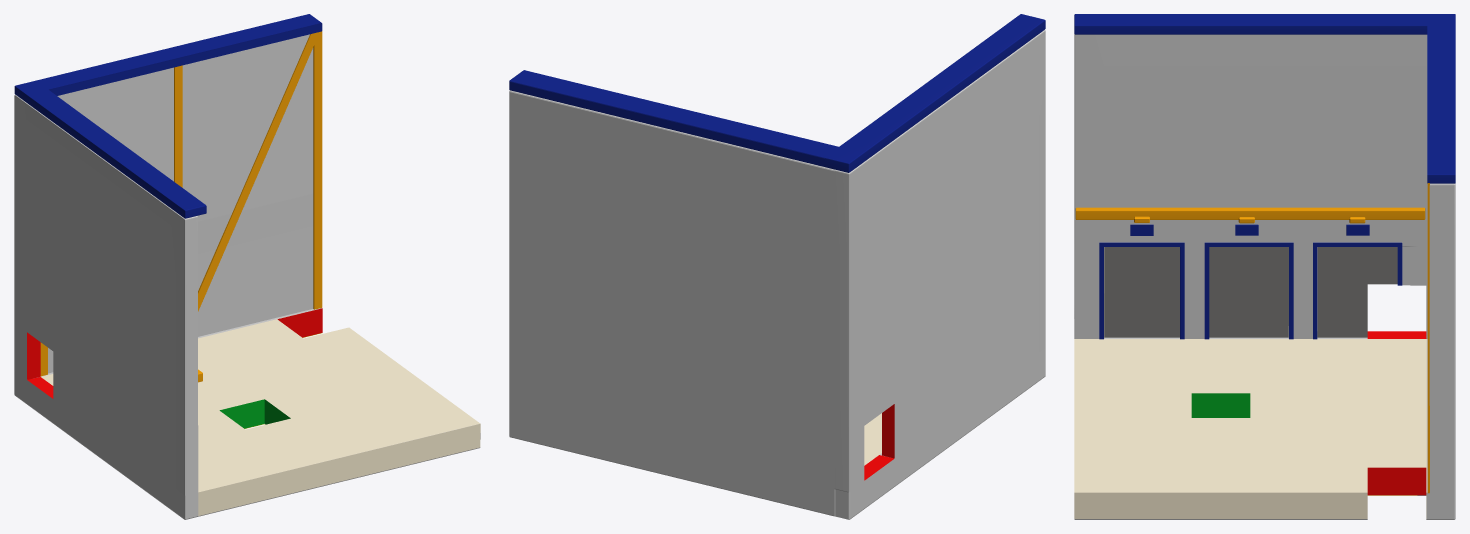
File: cube_sta8.fbx
3 views of the same model, side by side, from view 1: azimuth 30°, elevation 25°; view 2: azimuth 150°, elevation 25°; view 3: azimuth 270°, elevation 25° (orthographic). The views are drawn at different scales.
Parts seen in each view (by area): view 1: polySurface71; view 2: polySurface71; view 3: polySurface71.
Part boxes in pixels (left/top/right/bottom): polySurface71: left=14, top=14, right=480, bottom=519; polySurface71: left=509, top=14, right=1045, bottom=519; polySurface71: left=1074, top=14, right=1455, bottom=519.
Size of the model in its own units: 6.49 by 6.5 by 6.5.
8 materials, 1 textured.
